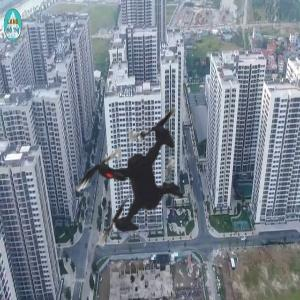drone: (29, 68, 248, 287)
